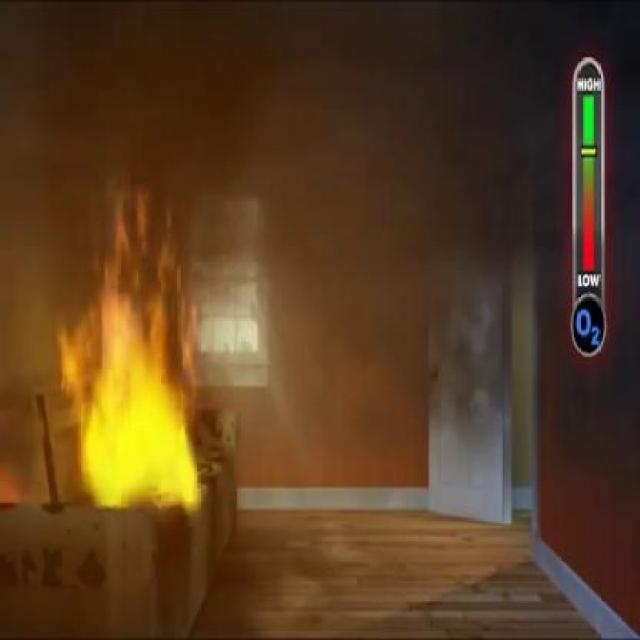fire: (78, 262, 204, 500)
smoke: (1, 2, 286, 200), (420, 9, 562, 374)
